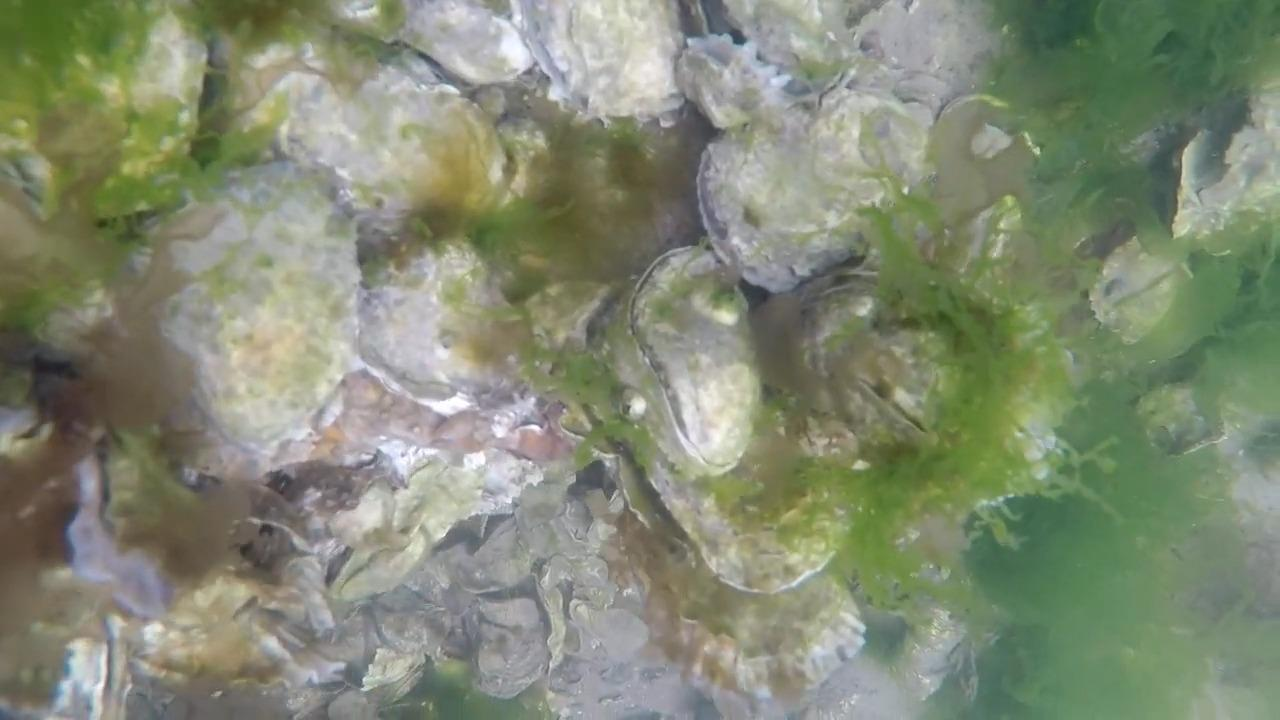Oyster: (821, 231, 1070, 487), (161, 173, 354, 450), (698, 95, 909, 286), (350, 241, 558, 429), (632, 247, 759, 476), (325, 456, 499, 602), (668, 476, 853, 611), (351, 87, 514, 230), (82, 6, 211, 180), (526, 0, 682, 119), (240, 62, 370, 192), (855, 0, 1009, 105), (690, 3, 857, 96), (805, 87, 933, 208), (1179, 102, 1280, 240), (1089, 235, 1192, 345), (401, 3, 534, 87)
